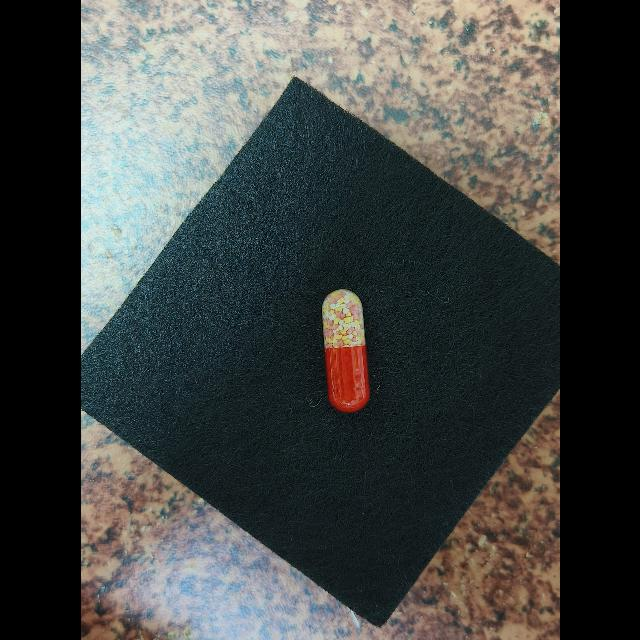Intact Capsule: (321, 289, 369, 412)
